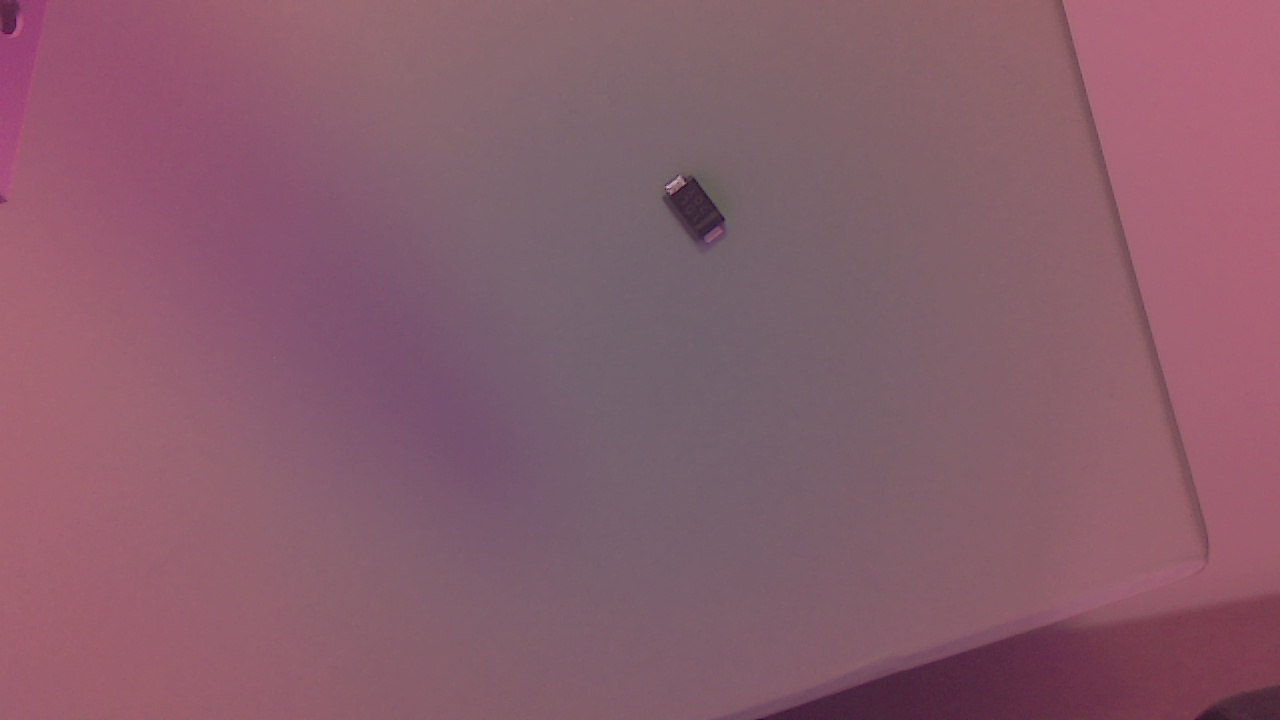Diode: (668, 176, 734, 254)
